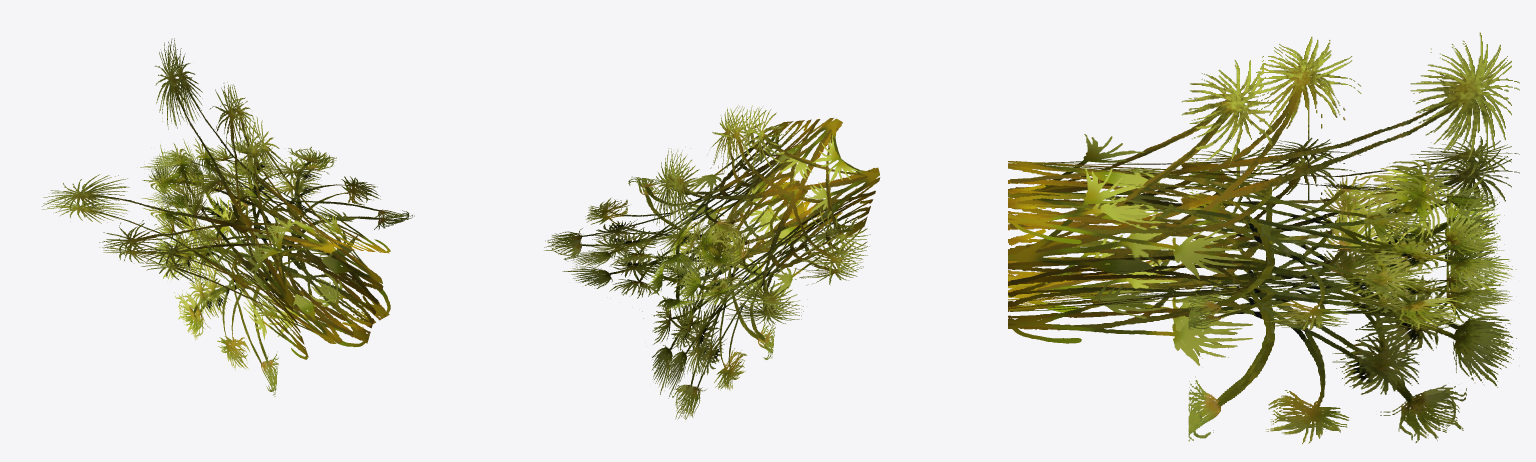
The model's file is papyrus_2.glb.
The picture shows the model from 3 angles, left to right: view 1: azimuth 30°, elevation 25°; view 2: azimuth 150°, elevation 25°; view 3: azimuth 270°, elevation 25°; orthographic projection. The views are drawn at different scales.
Bounding box in the file's own units: 6.88 × 6.88 × 7.39.
1 material, 1 textured.
